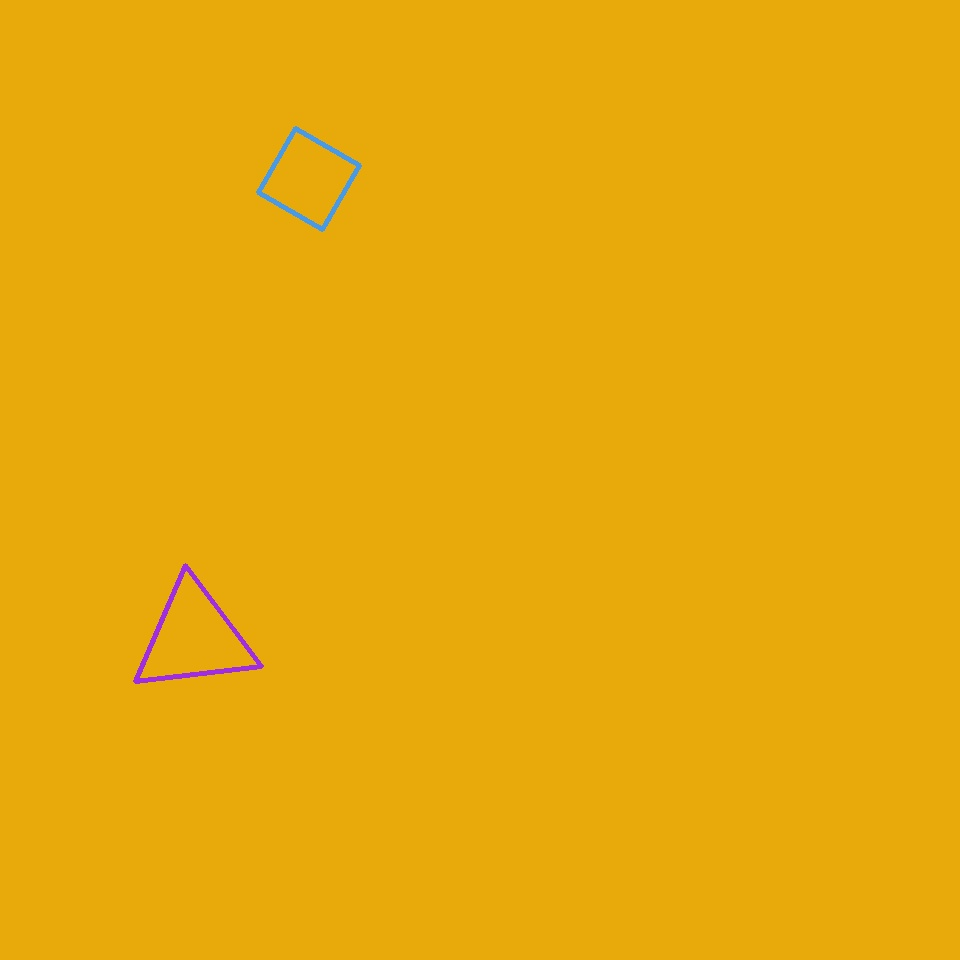circle: (131, 580, 257, 696)
square: (258, 128, 360, 230)
